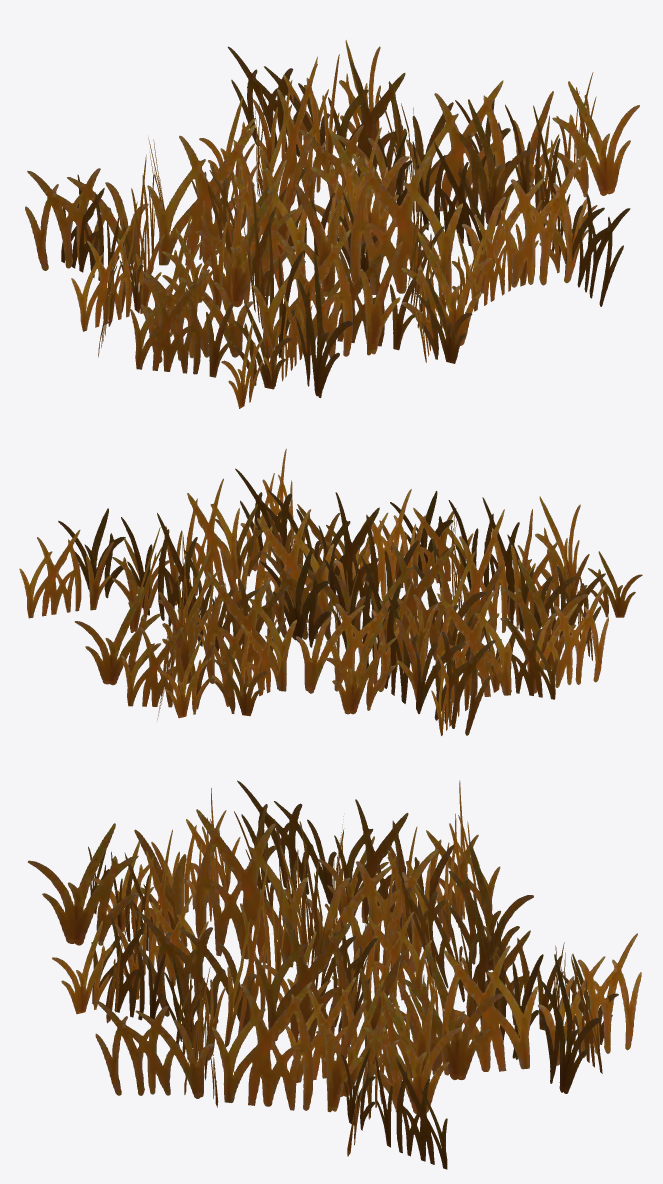
3 renders of one model, top to bottom at view 1: azimuth 30°, elevation 25°; view 2: azimuth 150°, elevation 25°; view 3: azimuth 270°, elevation 25°, orthographic. The views are drawn at different scales.
Parts seen in each view (by area): view 1: SM_HL_Grass_Low_02_LOD0; view 2: SM_HL_Grass_Low_02_LOD0; view 3: SM_HL_Grass_Low_02_LOD0.
Boxes of the visible parts, x1=… form: SM_HL_Grass_Low_02_LOD0: x1=25, y1=40, x2=639, y2=408; SM_HL_Grass_Low_02_LOD0: x1=19, y1=448, x2=642, y2=735; SM_HL_Grass_Low_02_LOD0: x1=27, y1=780, x2=641, y2=1169.
Size of the model in its own units: 1.18 by 0.2776 by 1.06.
1 material, 1 textured.
